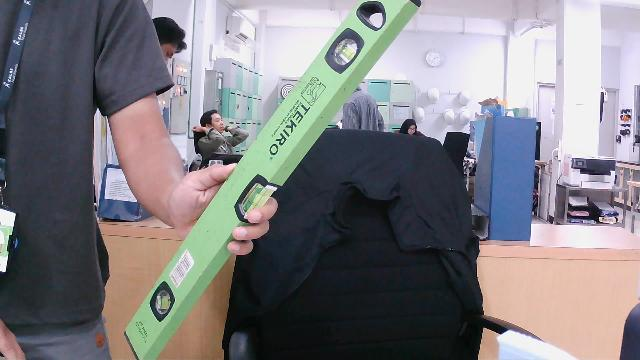water_pass: (107, 0, 423, 360)
